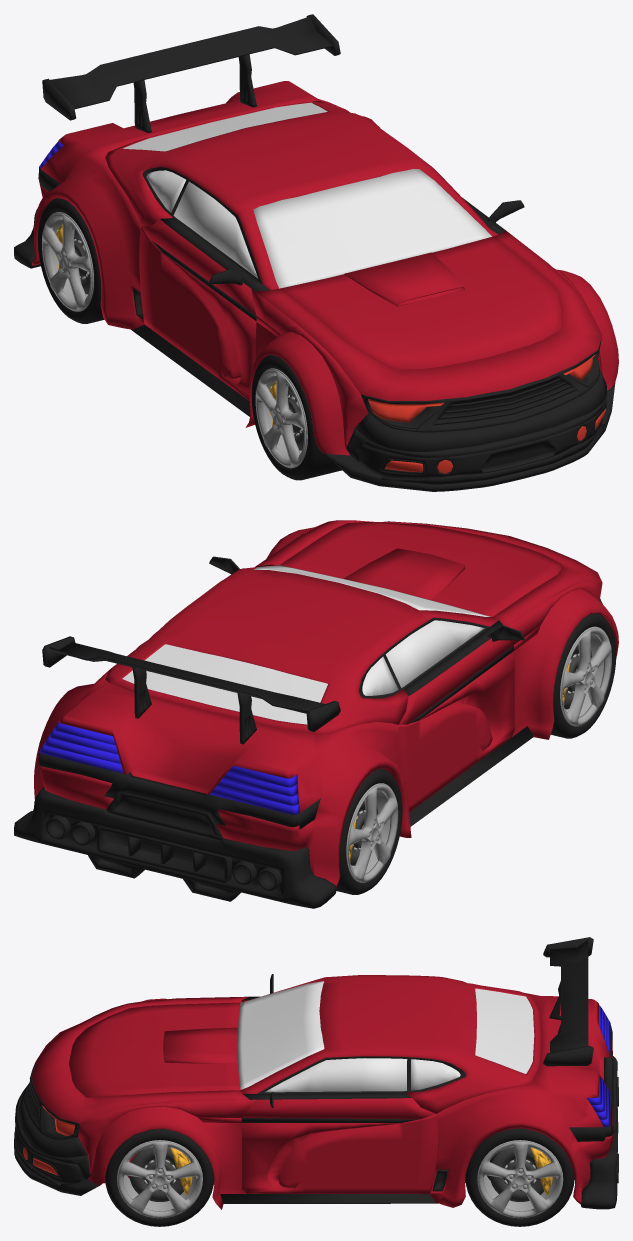
The model's file is rockerModel.fbx.
3 renders of one model, top to bottom at view 1: azimuth 30°, elevation 25°; view 2: azimuth 150°, elevation 25°; view 3: azimuth 270°, elevation 25°, orthographic. The views are drawn at different scales.
Visible parts, largest first — view 1: body, Plane.018, Plane.038, Plane.015, rim.003, rim.008, Front_Glass; view 2: body, Plane.018, Plane.038, Plane.015, rim.008, rim.003, Back_Glass; view 3: body, Plane.038, Plane.018, rim.005, rim.001, Plane.015, rim.004, rim.007, Back_Glass, Front_Glass.
Part boxes in pixels (x1=…): body: x1=32, y1=81, x2=618, y2=455; Plane.018: x1=14, y1=16, x2=615, y2=491; Plane.038: x1=123, y1=102, x2=491, y2=288; Plane.015: x1=42, y1=14, x2=606, y2=473; rim.003: x1=251, y1=354, x2=341, y2=480; rim.008: x1=37, y1=198, x2=104, y2=323; Front_Glass: x1=368, y1=354, x2=606, y2=473; body: x1=33, y1=520, x2=618, y2=887; Plane.018: x1=14, y1=598, x2=602, y2=908; Plane.038: x1=122, y1=565, x2=490, y2=724; Plane.015: x1=42, y1=556, x2=524, y2=901; rim.008: x1=336, y1=768, x2=402, y2=894; rim.003: x1=551, y1=613, x2=616, y2=738; Back_Glass: x1=39, y1=722, x2=299, y2=814; body: x1=31, y1=975, x2=613, y2=1209; Plane.038: x1=237, y1=981, x2=534, y2=1092; Plane.018: x1=14, y1=939, x2=617, y2=1209; rim.005: x1=465, y1=1128, x2=574, y2=1226; rim.001: x1=105, y1=1129, x2=214, y2=1226; Plane.015: x1=31, y1=937, x2=618, y2=1193; rim.004: x1=489, y1=1147, x2=552, y2=1201; rim.007: x1=129, y1=1147, x2=192, y2=1201; Back_Glass: x1=586, y1=1005, x2=610, y2=1126; Front_Glass: x1=23, y1=1105, x2=75, y2=1175.
Bounding box in the file's own units: 757 × 479 × 1496.
